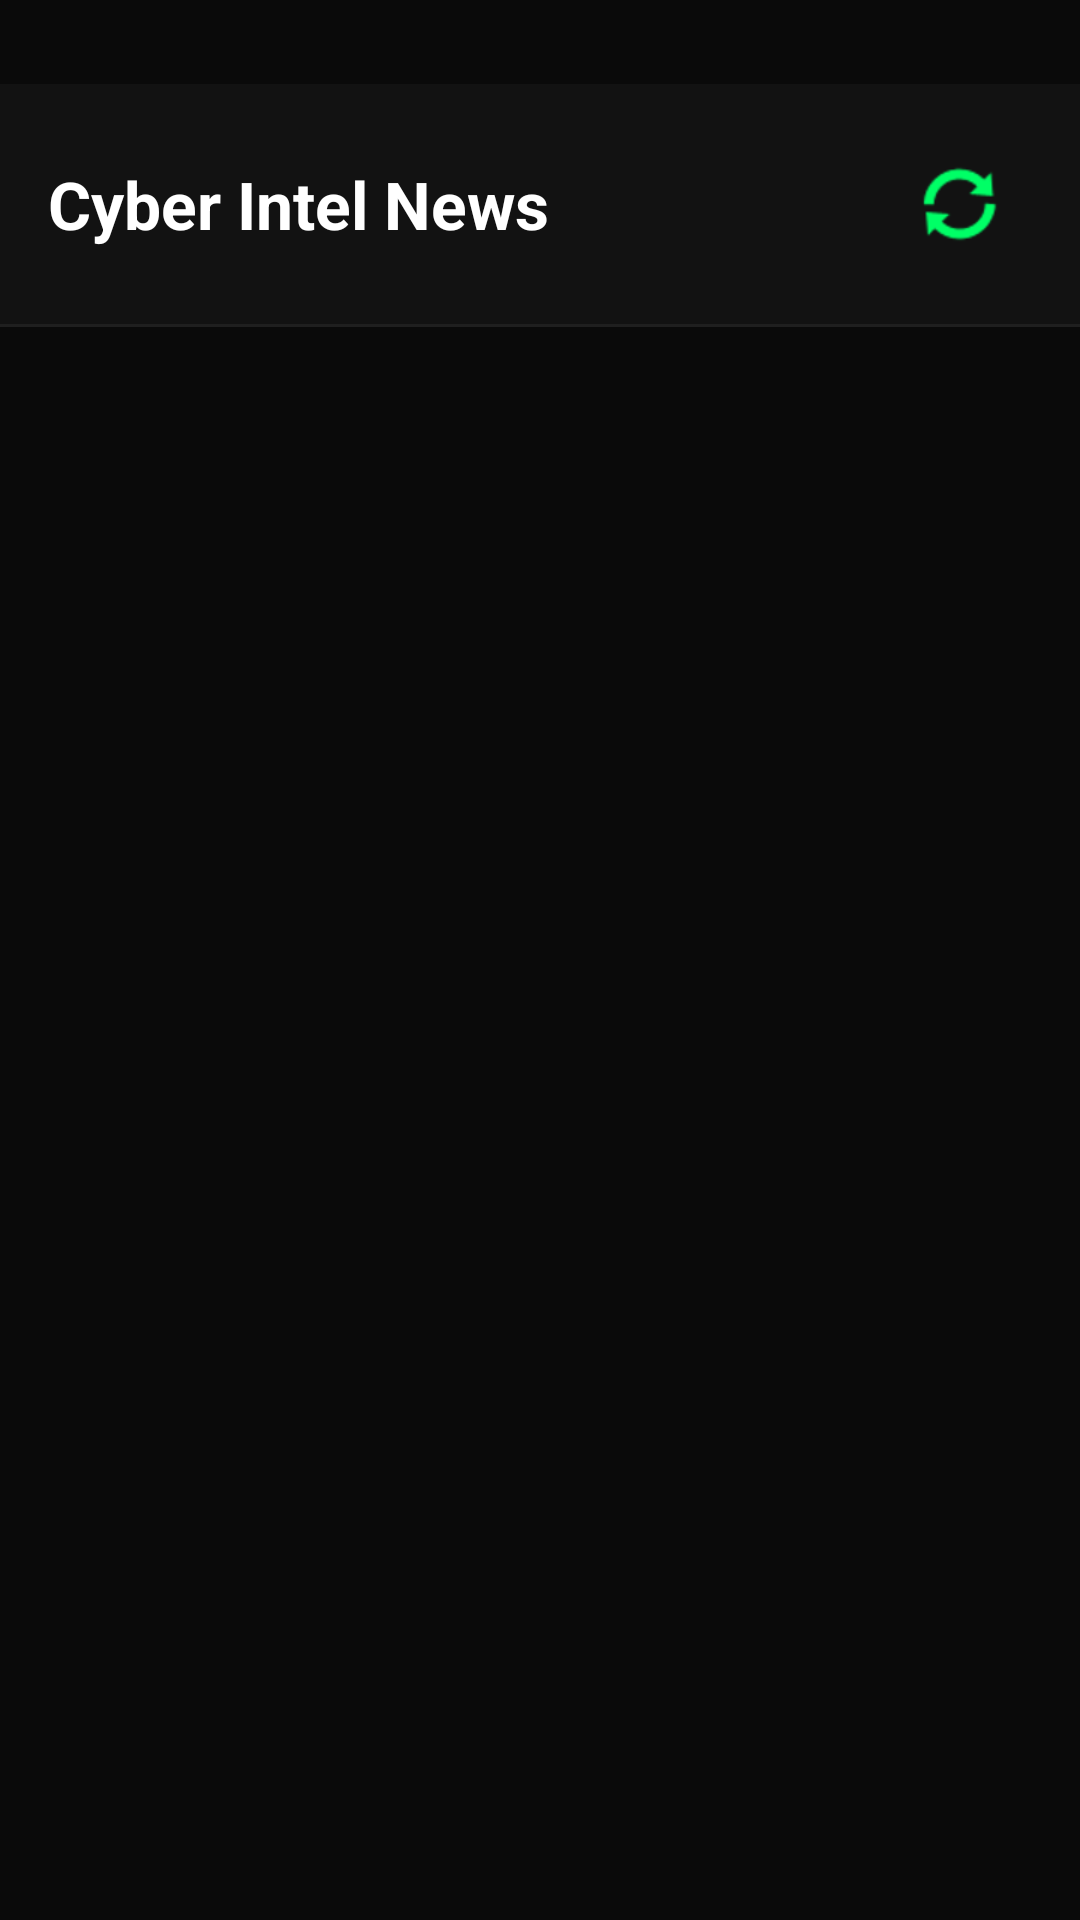

Icons on this 1080×1920 Android screen, each with the point to tap as [x,y]:
Refresh News: [960,204]
